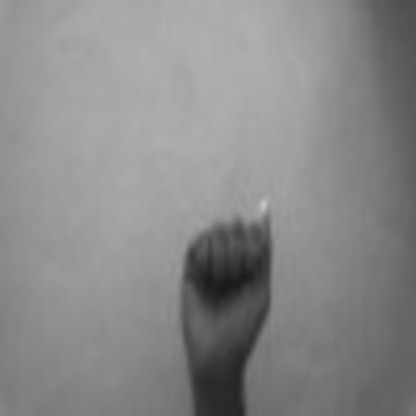a: (172, 193, 280, 373)
